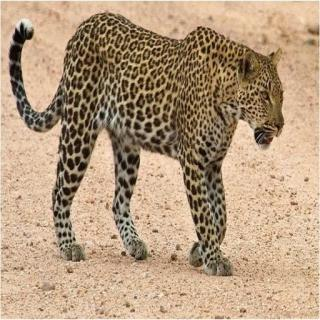Leopard: (42, 9, 290, 271)
